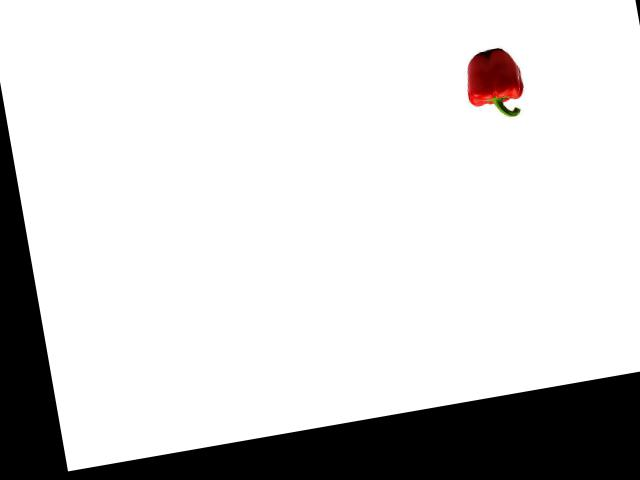bell_pepper: (456, 41, 532, 126)
